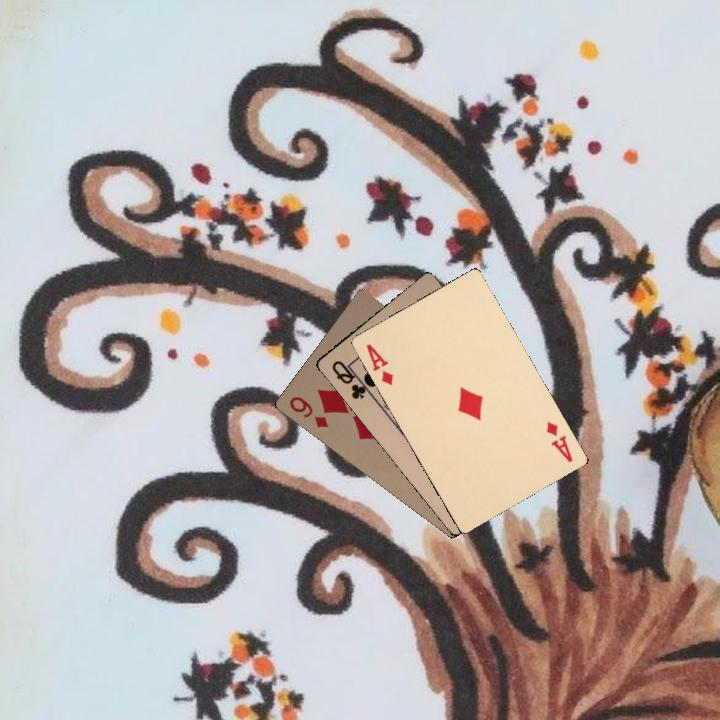9d: (285, 392, 331, 430)
Ad: (362, 339, 396, 387), (542, 417, 575, 465)
Qc: (328, 356, 373, 402)
